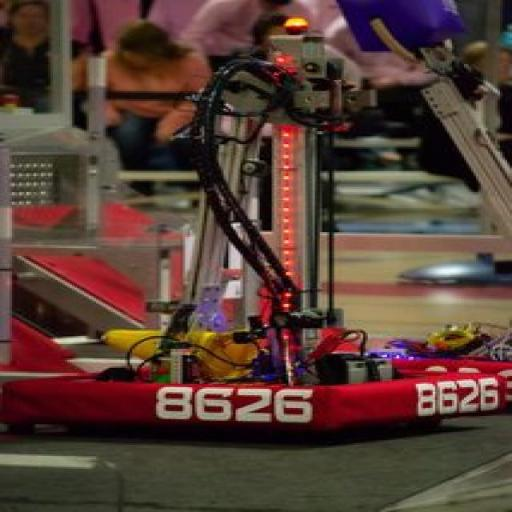robot: (44, 32, 498, 434)
